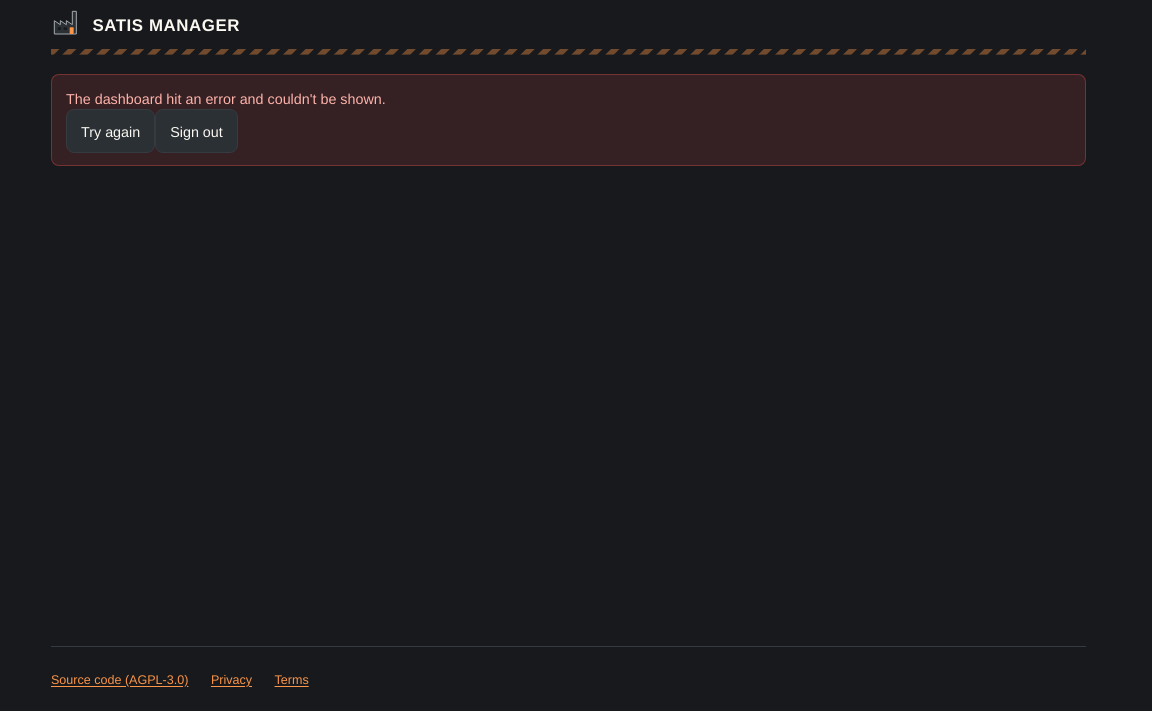
Scenario: App with a crash outside every section › keeps the title and the source link, and Try again re-mounts the gates
This screenshot has width=1152, height=711.
Check: the message named "The dashboard error" shows "The dashboard hit an error and couldn't be shown.", box [66, 89, 386, 107]
Check: the heading reads "Satis Manager", box [92, 9, 240, 35]
Click the button "Try again" at point(111, 131), box [66, 109, 155, 153]
(page scrolled)
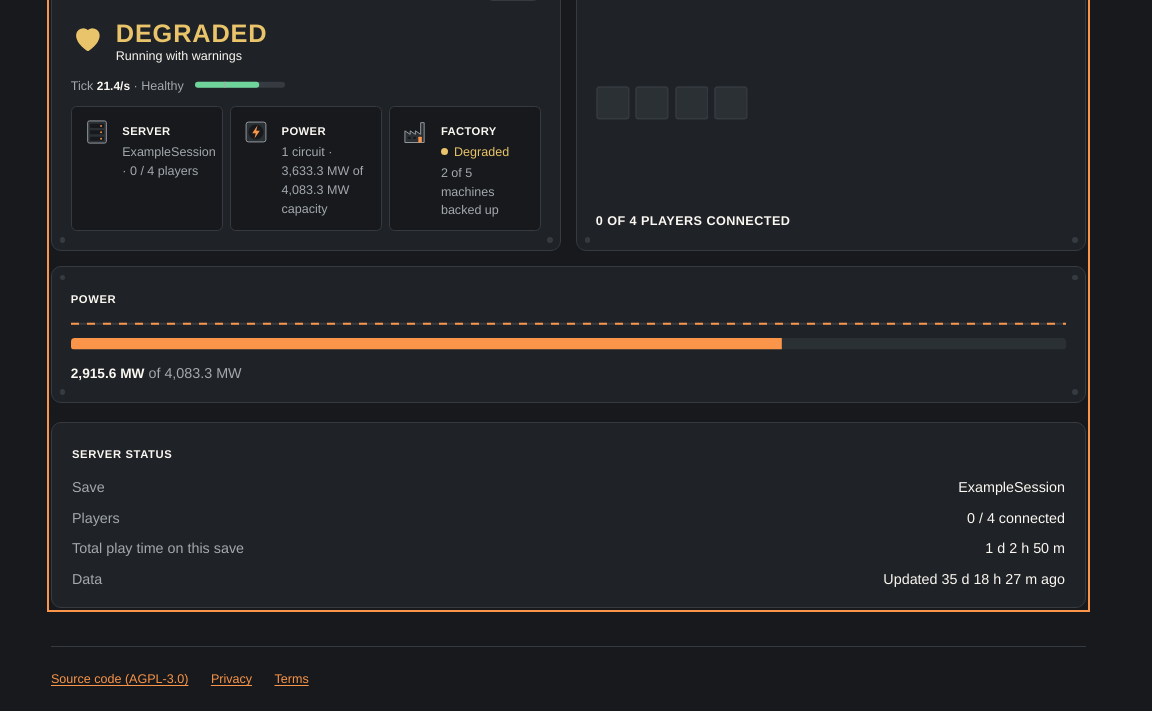
Check: the link "Source code (AGPL-3.0)" is shown, box [51, 670, 188, 686]
Check: the element "Server status" is shown, box [51, 422, 1086, 608]
